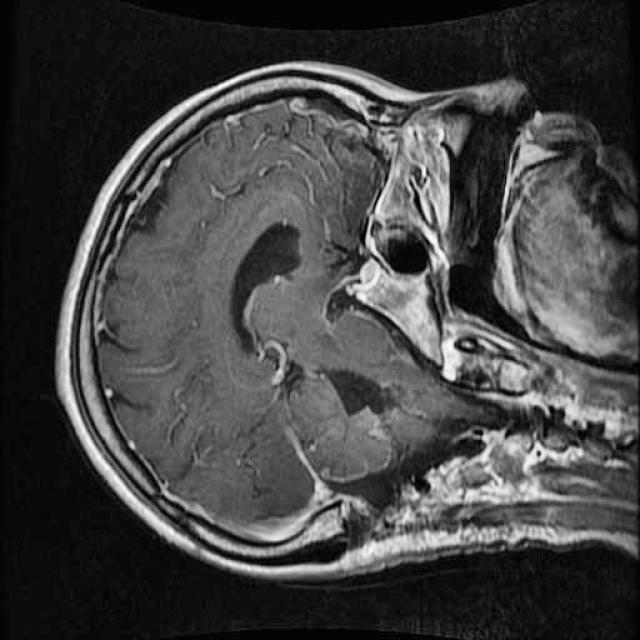Tumor: (296, 316, 420, 442)
